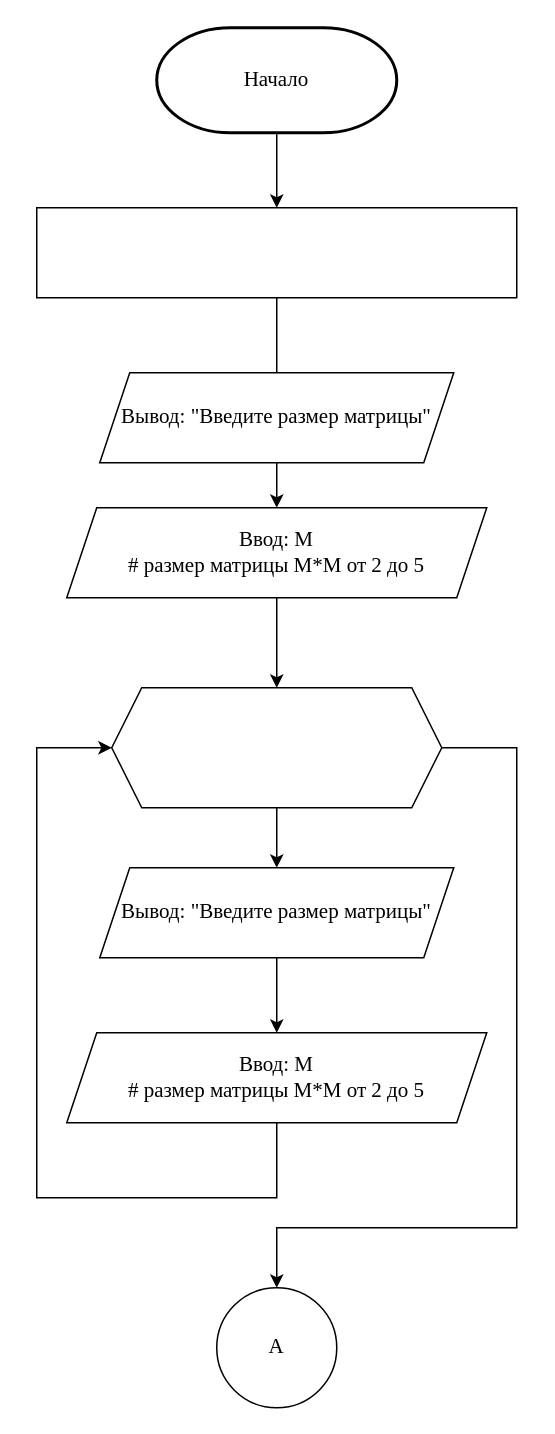
The diagram is 555 pixels wide and 1434 high, and some of its shapes have lost their labels. The shapes that lost their labels are listed below. From the top down, each one's centre as x and y in pixels, then its label:
pixel 276 252: numbers = ["1", "2", "3", "4", "5", "6", "7", "8", "9"]
pixel 276 747: Пока (M not in ["2", "3", "4", "5"])
